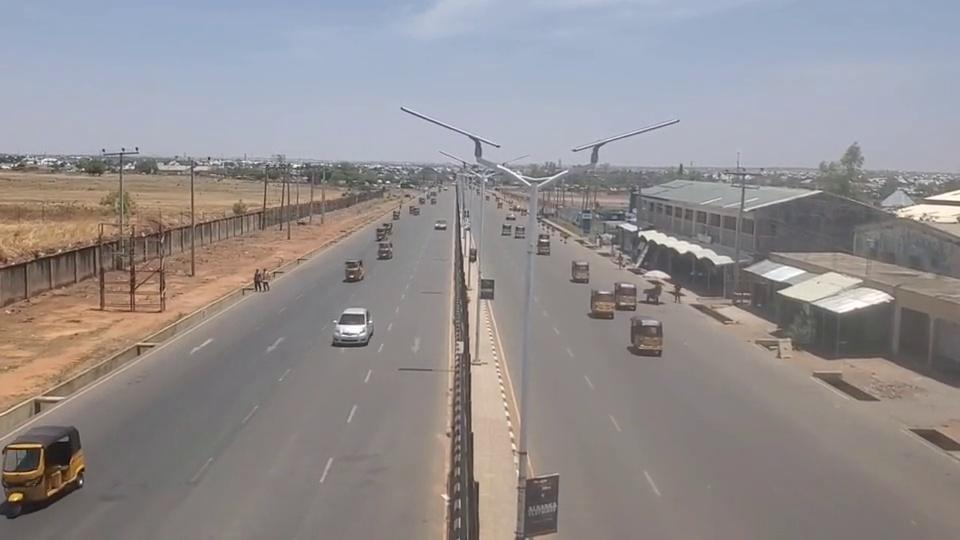keke: (0, 423, 86, 519)
